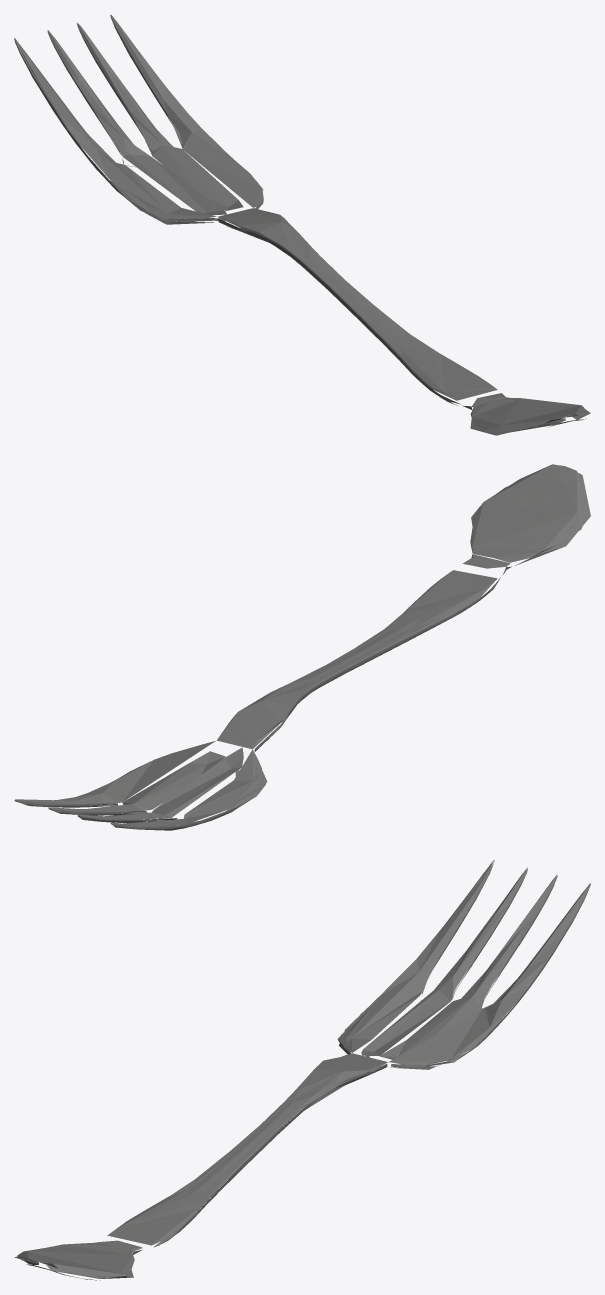
File: kitchenware_fork_e01.glb
3 renders of one model, top to bottom at view 1: azimuth 30°, elevation 25°; view 2: azimuth 150°, elevation 25°; view 3: azimuth 330°, elevation 25°, orthographic.
Visible parts, largest first — view 1: geometry_0; view 2: geometry_0; view 3: geometry_0.
Boxes of the visible parts, x1,y1,x2,y2 form: geometry_0: [14, 14, 590, 435]; geometry_0: [14, 464, 590, 830]; geometry_0: [14, 860, 590, 1280].
Bounding box in the file's own units: 0.0571 × 0.036 × 0.42.
Materials: 1 (1 with a texture image).
